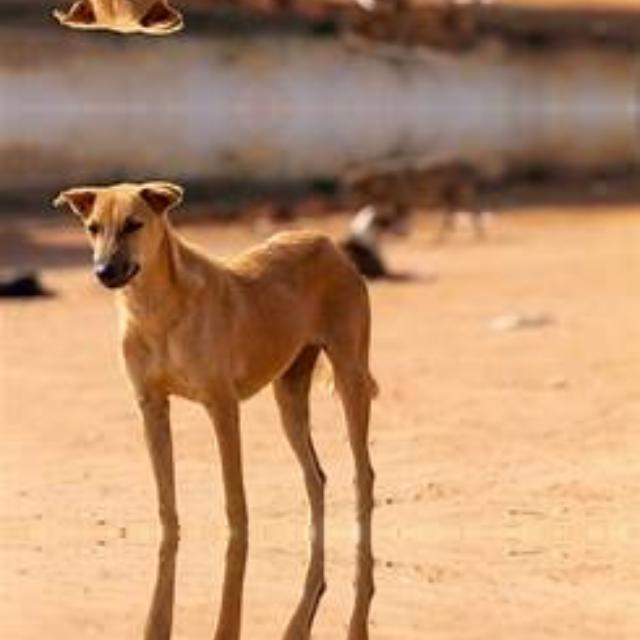dog: (35, 160, 441, 524), (35, 541, 441, 640), (35, 0, 441, 54)
